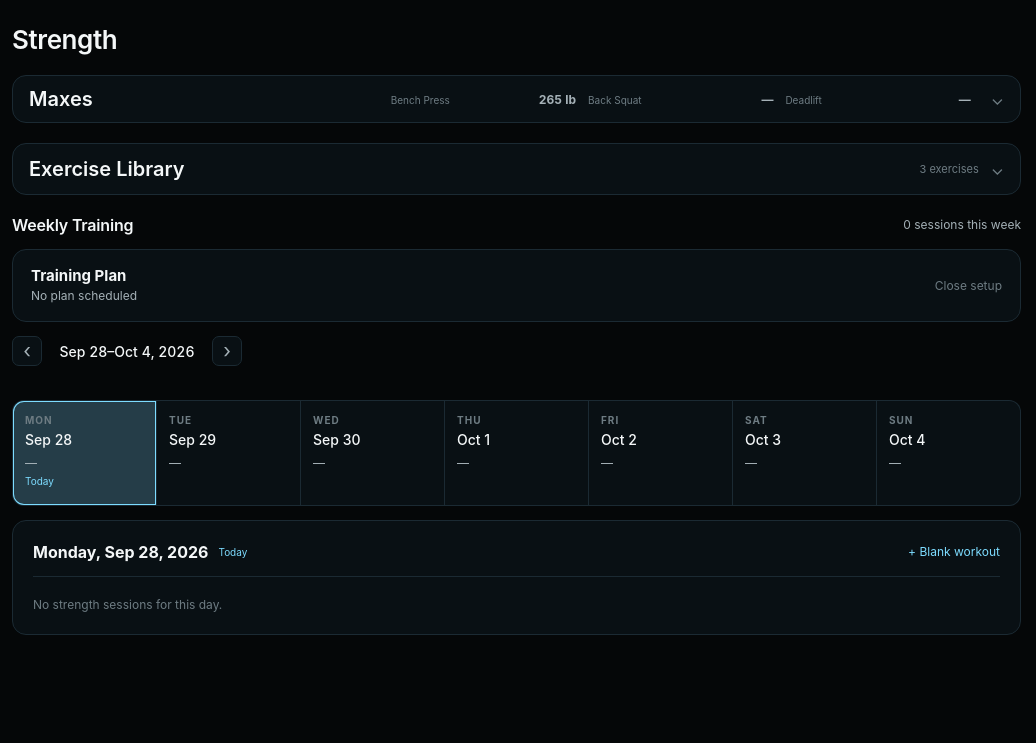
Test: StrengthPage › saves a max with Enter, refetches authoritative data, and refreshes the chart
Click the button "Maxes": (61, 99) [12,75,1021,123]
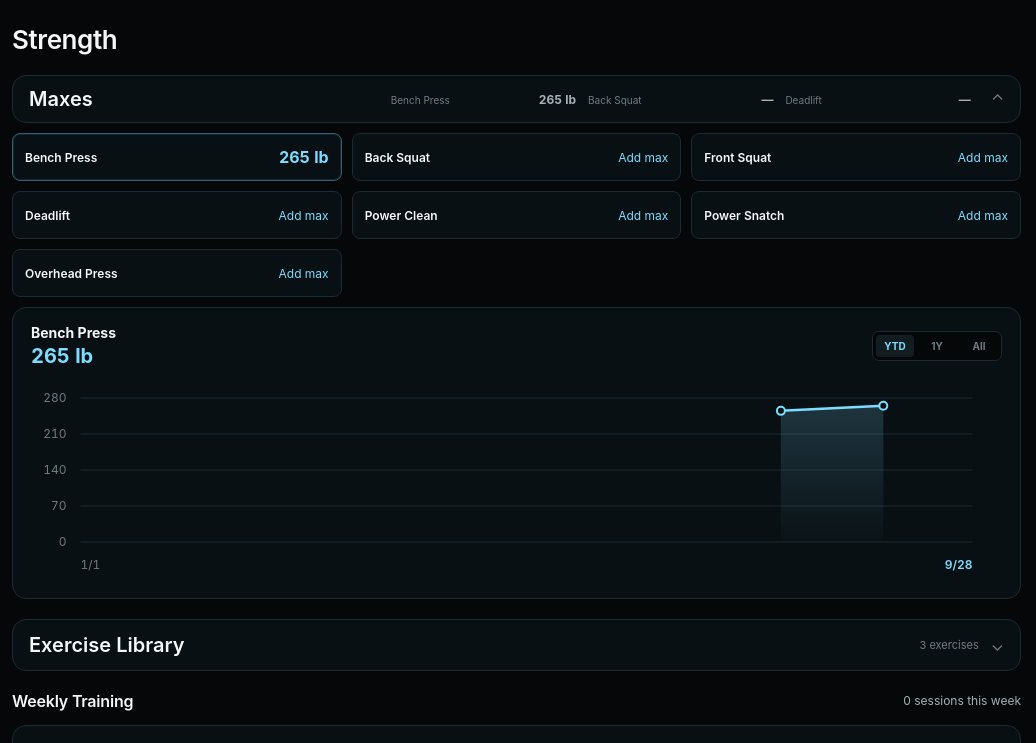
Click the button "265 lb": (304, 157) [279,147,329,167]
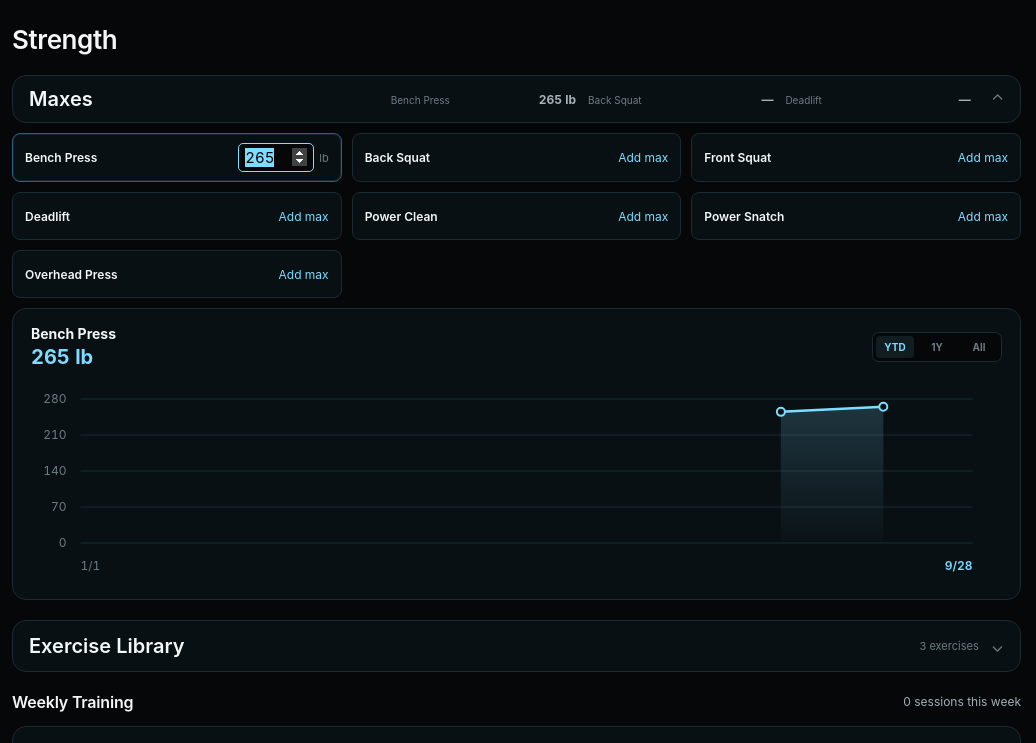
Replace the text in the number field named "Bench Press max" with "285": (276, 158) [238,143,314,172]
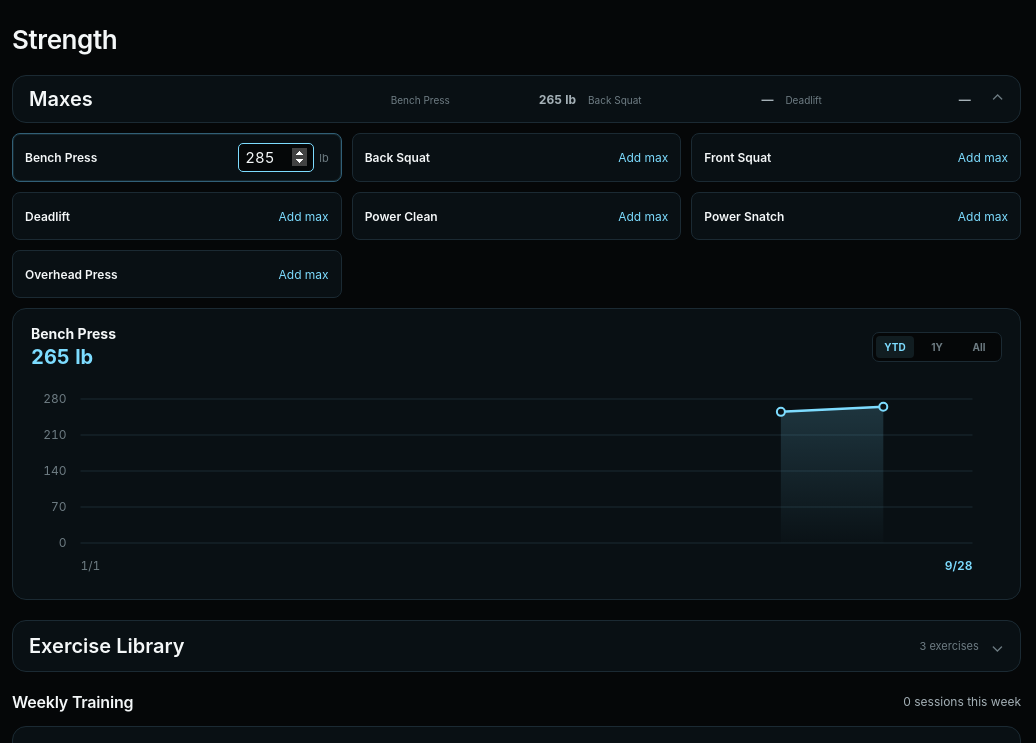
Press Enter in the number field named "Bench Press max", box [238,143,314,172]
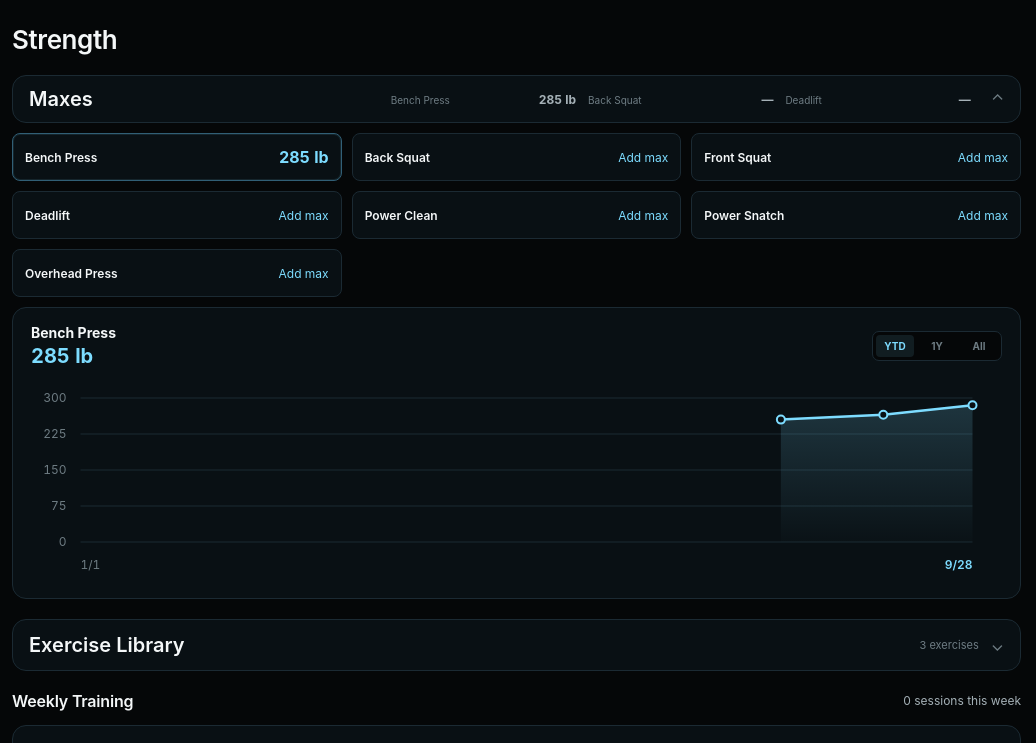
Check: the picture "Sep 28: 285 pounds" is shown, box [962,395,982,415]
Check: the button "285 lb" is shown, box [279,147,329,167]
